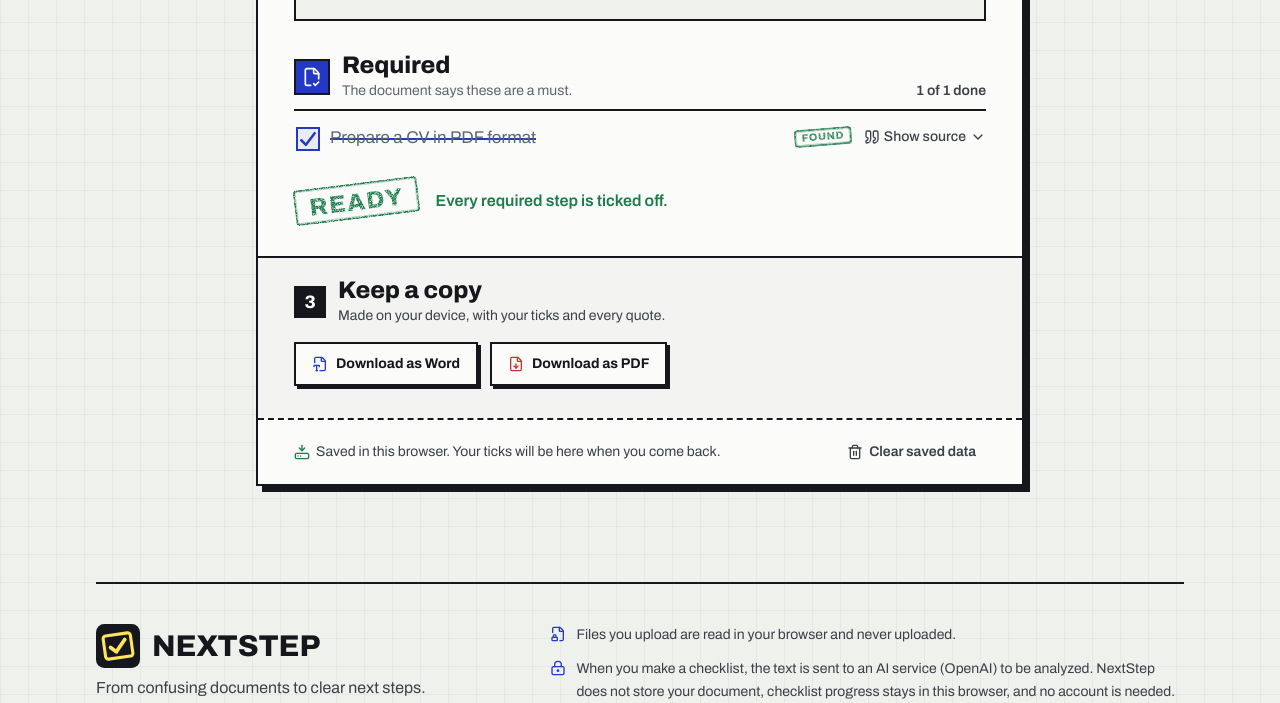
it: downloading the checklist › Download as Word saves a dated .docx
(page scrolled)
Click the button "Download as Word".
click(386, 364)  # box x1=294 y1=342 x2=478 y2=386
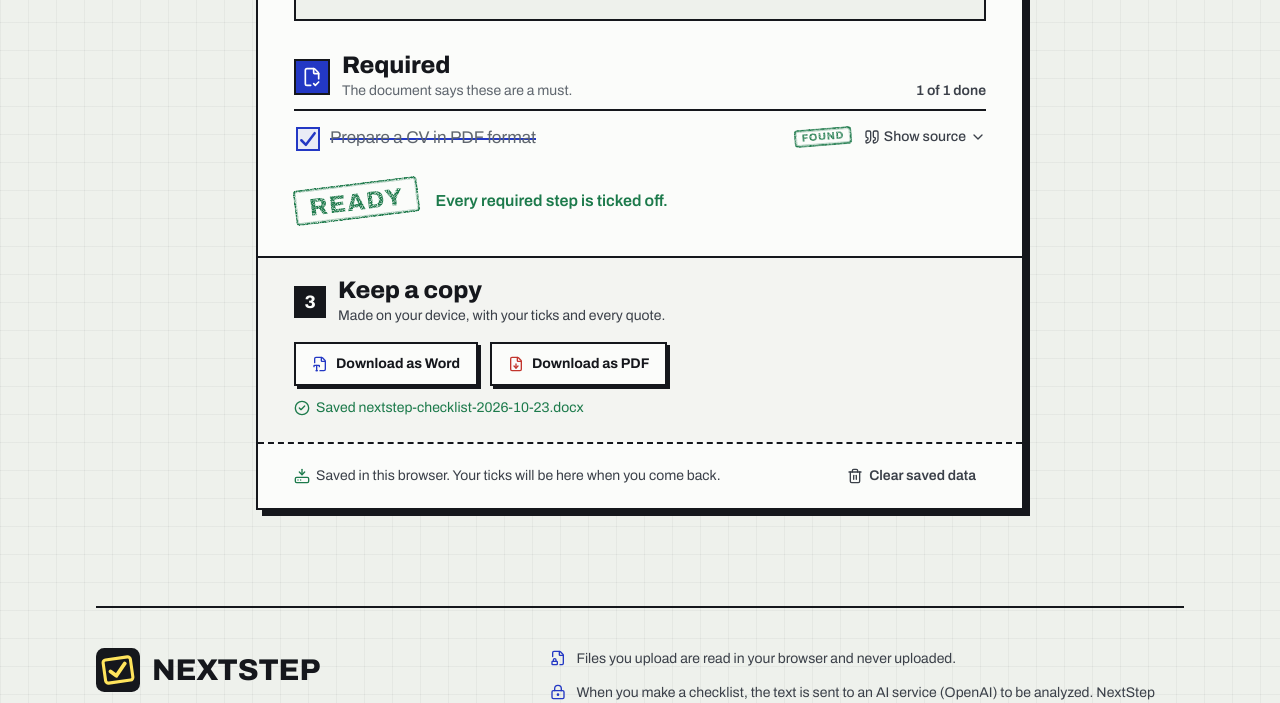
Check: the text "Saved nextstep-checklist-2026-10-23.docx" is shown, box x1=294 y1=398 x2=584 y2=418
